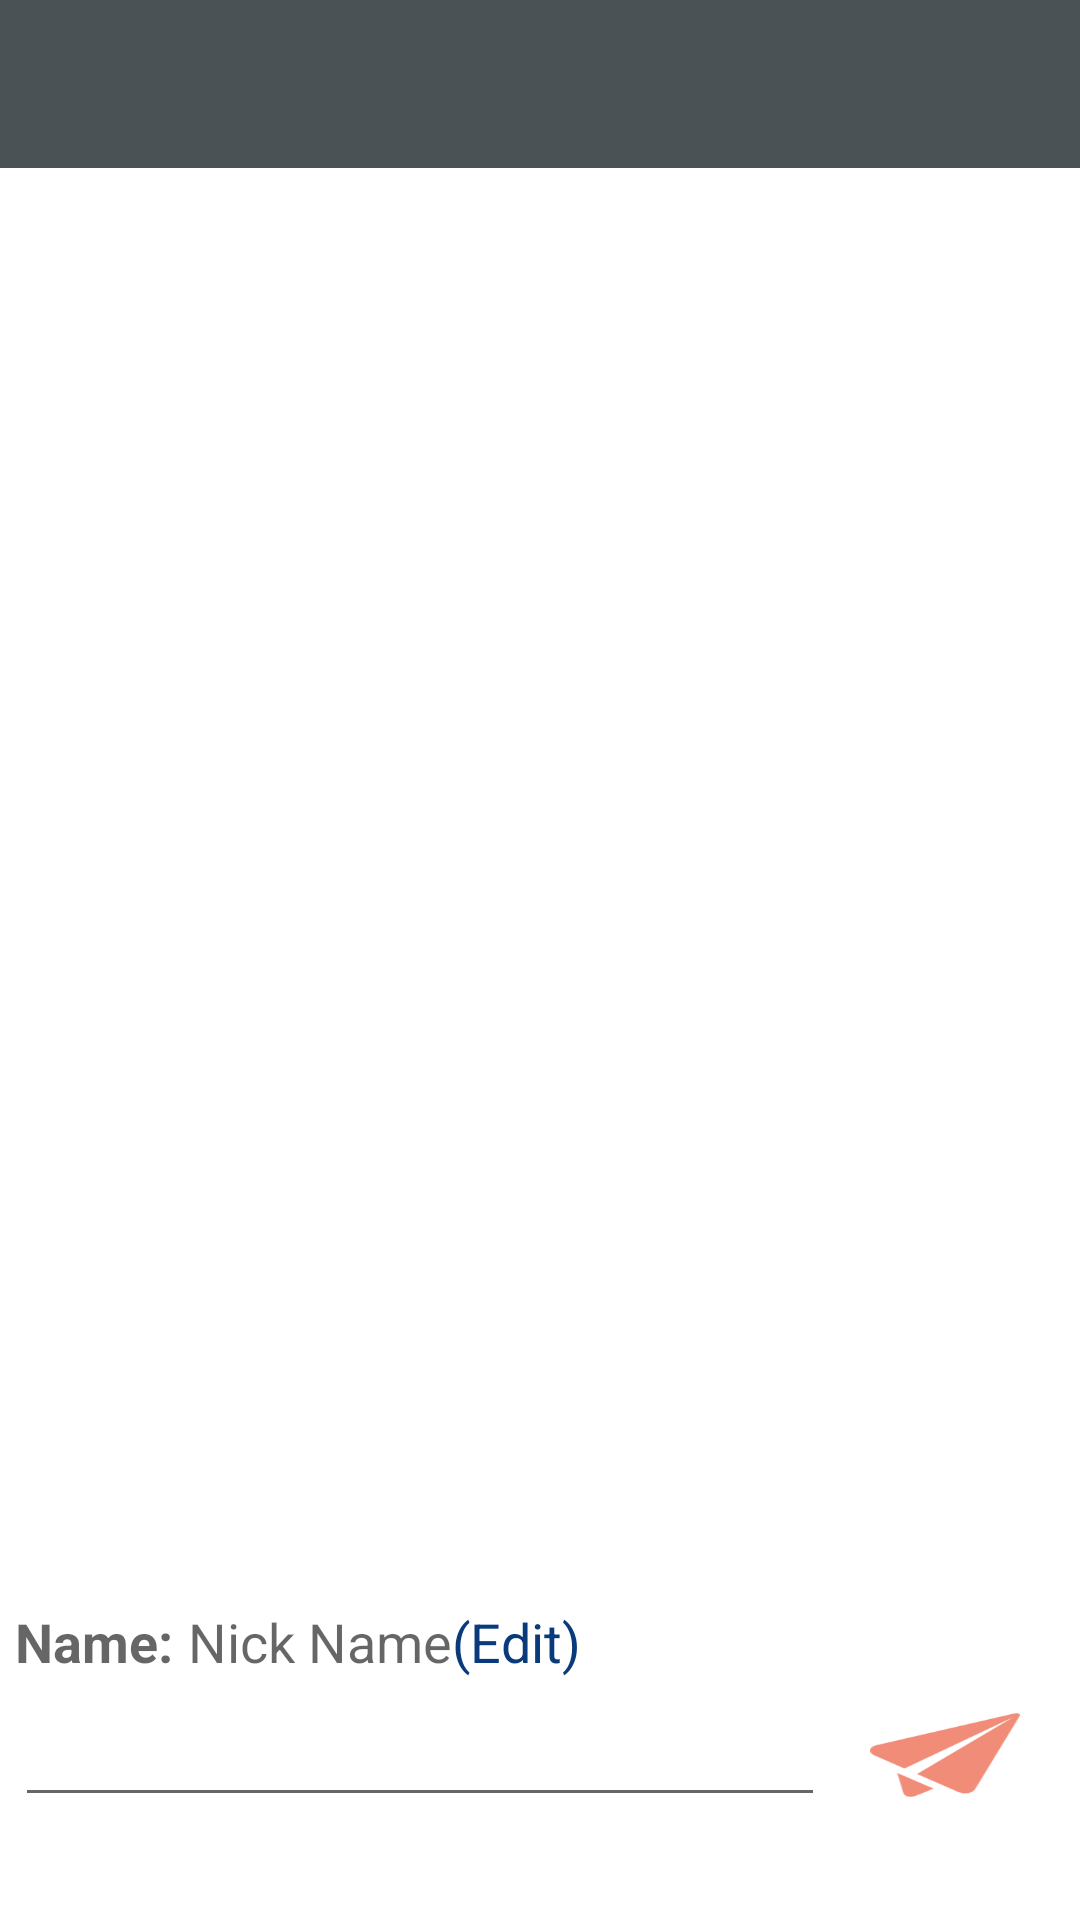

Where to tap for icons on this 1080px x 1920px app screen, as (x,y):
send: (945,1755)
